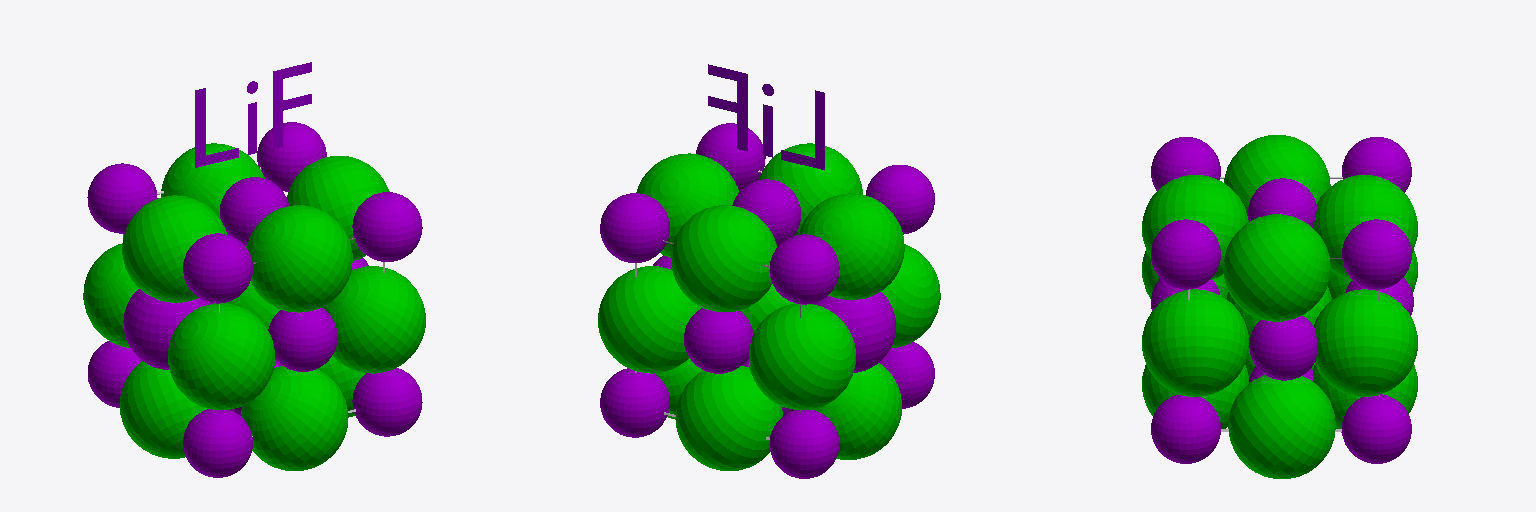
The model's file is lif.obj.
3 views of the same model, side by side, from view 1: azimuth 30°, elevation 25°; view 2: azimuth 150°, elevation 25°; view 3: azimuth 270°, elevation 25° (orthographic).
Parts seen in each view (by area): view 1: Sphere.023_Sphere.050, Sphere.022_Sphere.049, Sphere.025_Sphere.052, Sphere.024_Sphere.001, Sphere.018_Sphere.045, Sphere.021_Sphere.048, Sphere.014_Sphere.037, Sphere_Sphere.023, Sphere.001_Sphere.024, Sphere.003_Sphere.026, Sphere.002_Sphere.025, Sphere.016_Sphere.053 (+10 smaller); view 2: Sphere.020_Sphere.054, Sphere.016_Sphere.053, Sphere.027_Sphere.056, Sphere.026_Sphere.055, Sphere.018_Sphere.045, Sphere.021_Sphere.048, Sphere.014_Sphere.037, Sphere.005_Sphere.028, Sphere.004_Sphere.027, Sphere.007_Sphere.030, Sphere.006_Sphere.029, Sphere.022_Sphere.049 (+10 smaller); view 3: Sphere.014_Sphere.037, Sphere.024_Sphere.001, Sphere.026_Sphere.055, Sphere.017_Sphere.040, Sphere.016_Sphere.053, Sphere.022_Sphere.049, Sphere.018_Sphere.045, Sphere.004_Sphere.027, Sphere_Sphere.023, Sphere.006_Sphere.029, Sphere.002_Sphere.025, Sphere.009_Sphere.032 (+10 smaller).
Part boxes in pixels (x1,y1,x2,y2): Sphere.023_Sphere.050: (168,303,274,409); Sphere.022_Sphere.049: (247,205,352,312); Sphere.025_Sphere.052: (241,366,347,470); Sphere.024_Sphere.001: (322,266,425,373); Sphere.018_Sphere.045: (122,195,226,302); Sphere.021_Sphere.048: (120,361,206,458); Sphere.014_Sphere.037: (287,156,389,260); Sphere_Sphere.023: (352,192,422,261); Sphere.001_Sphere.024: (183,233,252,303); Sphere.003_Sphere.026: (183,409,252,477); Sphere.002_Sphere.025: (352,368,422,436); Sphere.016_Sphere.053: (161,143,264,234); Sphere.020_Sphere.054: (749,303,855,409); Sphere.016_Sphere.053: (671,205,776,311); Sphere.027_Sphere.056: (676,366,782,470); Sphere.026_Sphere.055: (598,266,701,373); Sphere.018_Sphere.045: (799,193,904,299); Sphere.021_Sphere.048: (812,363,901,459); Sphere.014_Sphere.037: (636,153,738,257); Sphere.005_Sphere.028: (769,234,839,304); Sphere.004_Sphere.027: (600,193,669,262); Sphere.007_Sphere.030: (769,410,839,478); Sphere.006_Sphere.029: (600,368,669,437); Sphere.022_Sphere.049: (759,143,862,235); Sphere.014_Sphere.037: (1223,214,1330,321); Sphere.024_Sphere.001: (1142,289,1248,396); Sphere.026_Sphere.055: (1314,289,1417,396); Sphere.017_Sphere.040: (1228,375,1335,478); Sphere.016_Sphere.053: (1313,175,1417,280); Sphere.022_Sphere.049: (1142,175,1248,280); Sphere.018_Sphere.045: (1224,135,1330,215); Sphere.004_Sphere.027: (1342,219,1411,289); Sphere_Sphere.023: (1151,219,1220,289); Sphere.006_Sphere.029: (1342,394,1411,463); Sphere.002_Sphere.025: (1151,395,1220,463); Sphere.009_Sphere.032: (1249,316,1316,380).
Size of the model in its own units: 6.06 by 8.07 by 5.66.